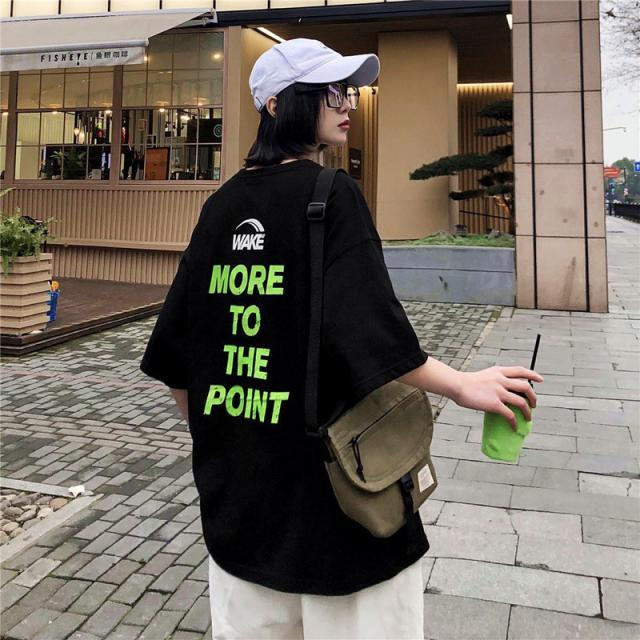Shirt: (141, 155, 436, 602)
